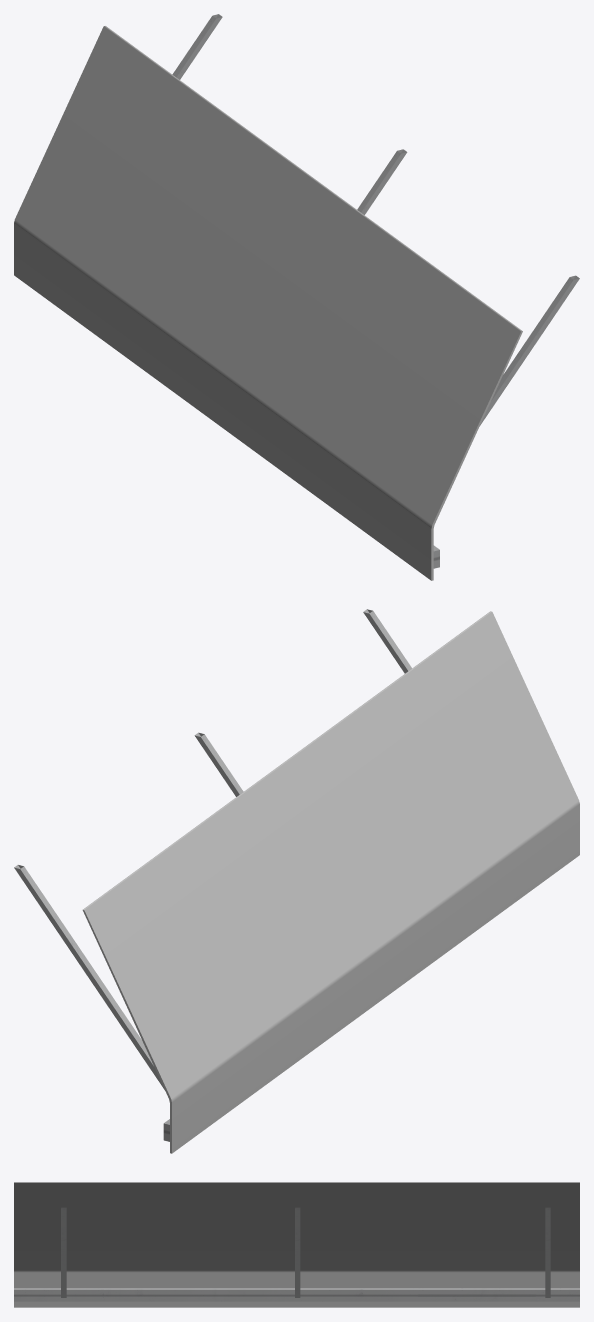
The model's file is MB_Canopy_A_4m.fbx.
3 renders of one model, top to bottom at view 1: azimuth 30°, elevation 25°; view 2: azimuth 150°, elevation 25°; view 3: azimuth 270°, elevation 25°, orthographic. The views are drawn at different scales.
Parts seen in each view (by area): view 1: MB_Canopy_A_4m; view 2: MB_Canopy_A_4m; view 3: MB_Canopy_A_4m.
Part boxes in pixels (<box>): MB_Canopy_A_4m: <box>14,14,579,580</box>; MB_Canopy_A_4m: <box>14,609,579,1153</box>; MB_Canopy_A_4m: <box>14,1182,579,1307</box>.
Bounding box in the file's own units: 101 × 123 × 400.
